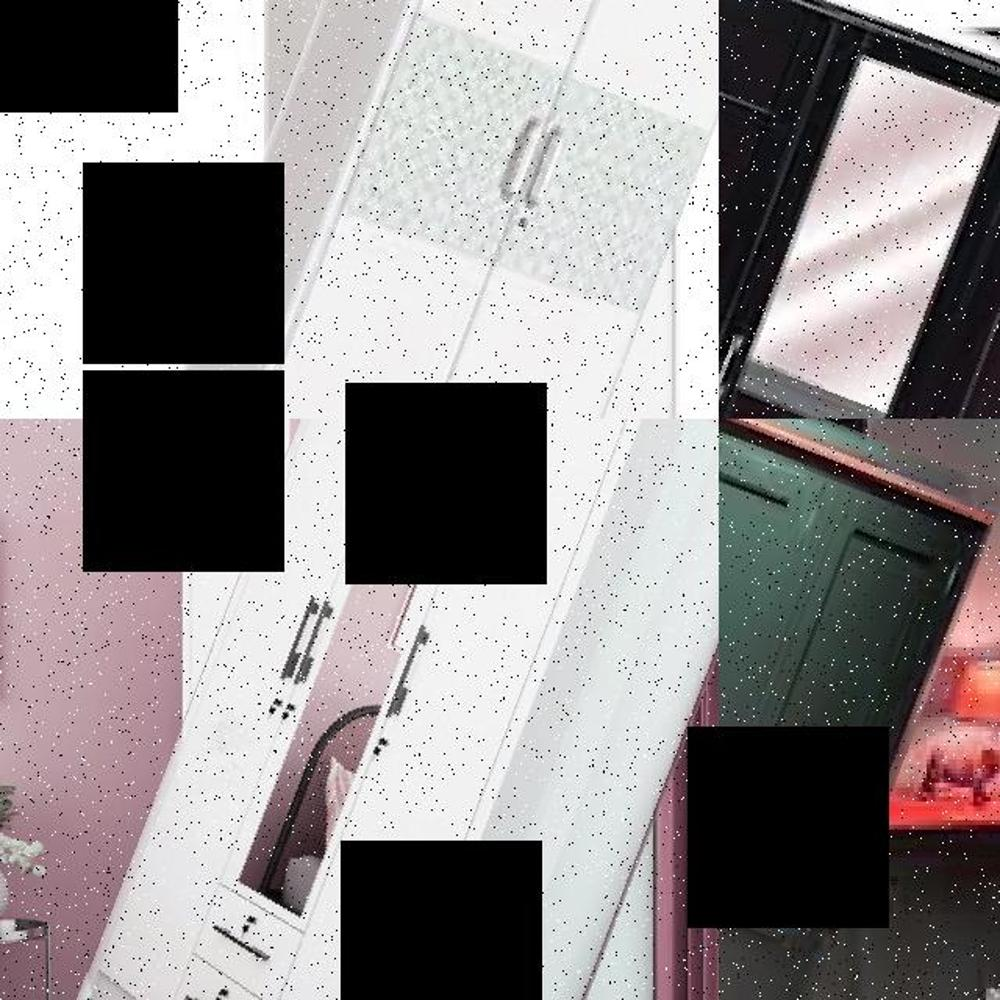cabinet: (108, 419, 719, 1000), (181, 0, 719, 419), (719, 419, 1000, 1000), (719, 0, 1000, 419), (855, 784, 1000, 1000)
